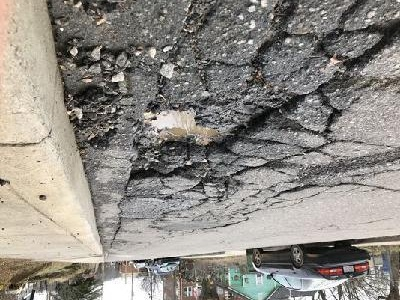pothole: (126, 85, 305, 182)
